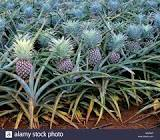Pineapple: (49, 36, 74, 74), (13, 37, 34, 78), (85, 30, 103, 66), (109, 35, 123, 64)
